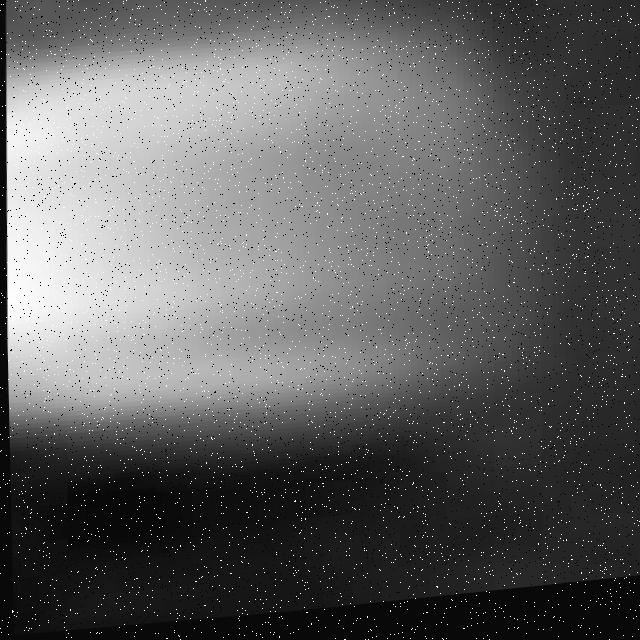person: (2, 1, 534, 473)
